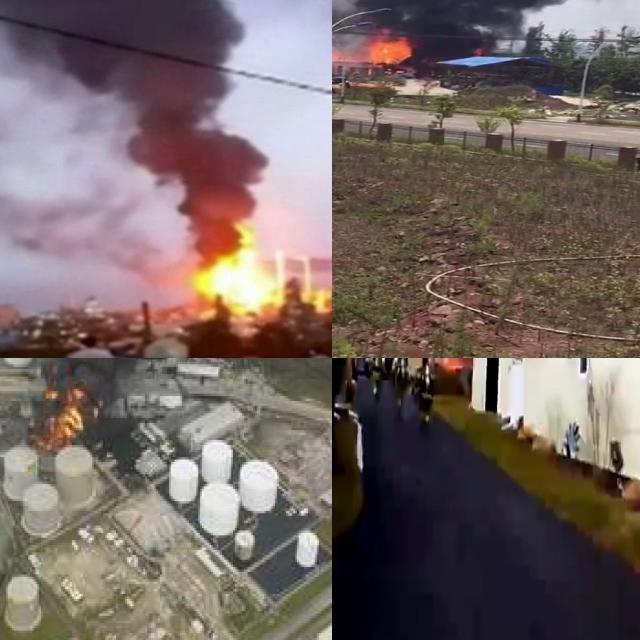fire: (188, 222, 286, 315), (37, 377, 85, 442), (332, 32, 409, 69), (297, 256, 332, 311), (362, 32, 412, 65)
smoke: (0, 0, 266, 217)
